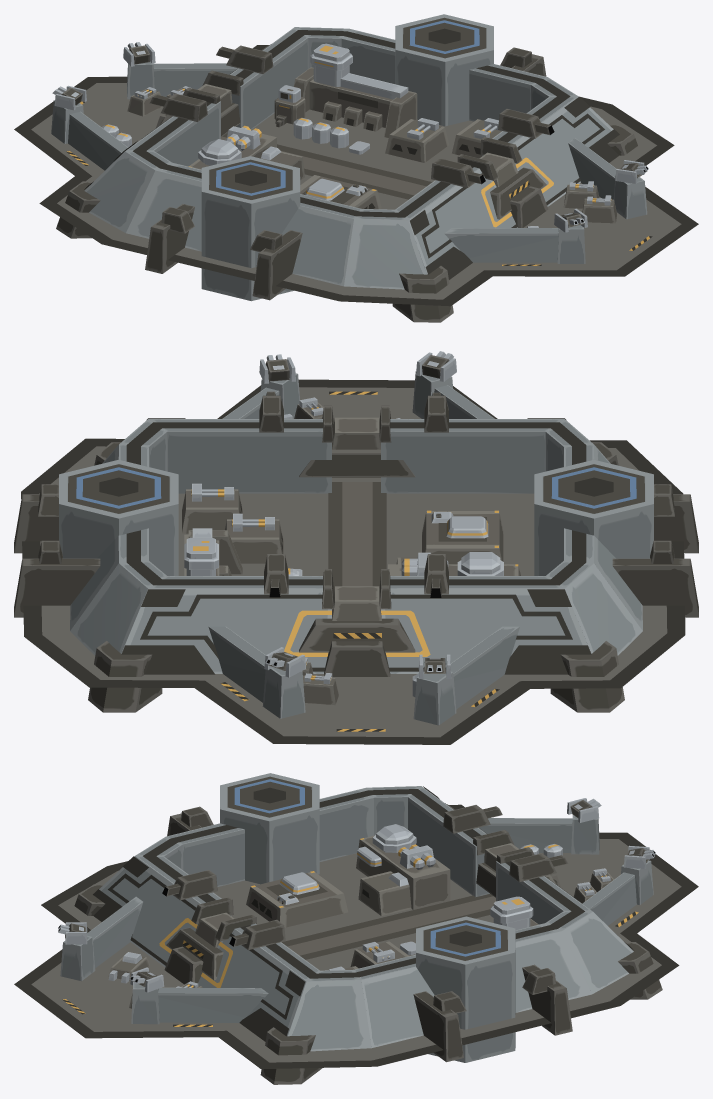
Rendered from town_fort_lowerright.FBX.
3 views of the same model, one above another, from view 1: azimuth 30°, elevation 25°; view 2: azimuth 150°, elevation 25°; view 3: azimuth 270°, elevation 25° (orthographic). The views are drawn at different scales.
Parts seen in each view (by area): view 1: town_fort, a3, a2, a4, a1; view 2: town_fort, a3, a4, a2, a1; view 3: town_fort, a3, a4, a2, a1.
Boxes of the visible parts, x1,y1,x2,y2 form: town_fort: [14, 14, 698, 322]; a3: [149, 93, 207, 122]; a2: [498, 109, 554, 138]; a4: [216, 45, 273, 73]; a1: [431, 158, 485, 187]; town_fort: [14, 351, 698, 744]; a3: [424, 554, 448, 597]; a4: [264, 554, 288, 597]; a2: [259, 391, 283, 432]; a1: [424, 392, 448, 432]; town_fort: [14, 773, 698, 1084]; a3: [443, 805, 502, 833]; a4: [509, 853, 568, 881]; a2: [229, 919, 285, 950]; a1: [162, 870, 217, 900].
Bounding box in the file's own units: 464 × 508 × 82.08.
Materials: 1 (1 with a texture image).
